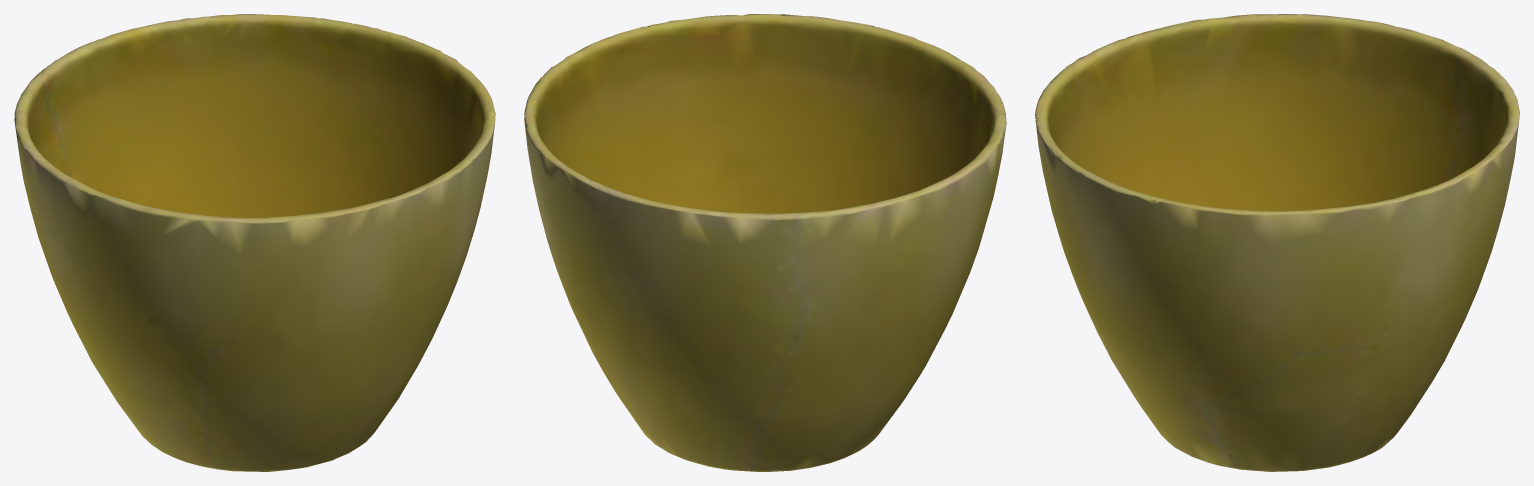
File: Ecoforms_Plant_Container_B4_Har-high.glb
The picture shows the model from 3 angles, left to right: view 1: azimuth 30°, elevation 25°; view 2: azimuth 150°, elevation 25°; view 3: azimuth 270°, elevation 25°; orthographic projection.
Visible parts, largest first — view 1: Ecoforms_Plant_Container_B4_Har; view 2: Ecoforms_Plant_Container_B4_Har; view 3: Ecoforms_Plant_Container_B4_Har.
Boxes of the visible parts, x1=… form: Ecoforms_Plant_Container_B4_Har: x1=14, y1=14, x2=495, y2=471; Ecoforms_Plant_Container_B4_Har: x1=524, y1=14, x2=1006, y2=471; Ecoforms_Plant_Container_B4_Har: x1=1035, y1=14, x2=1519, y2=471.
Size of the model in its own units: 0.1007 by 0.0717 by 0.1009.
Materials: 1 (1 with a texture image).
